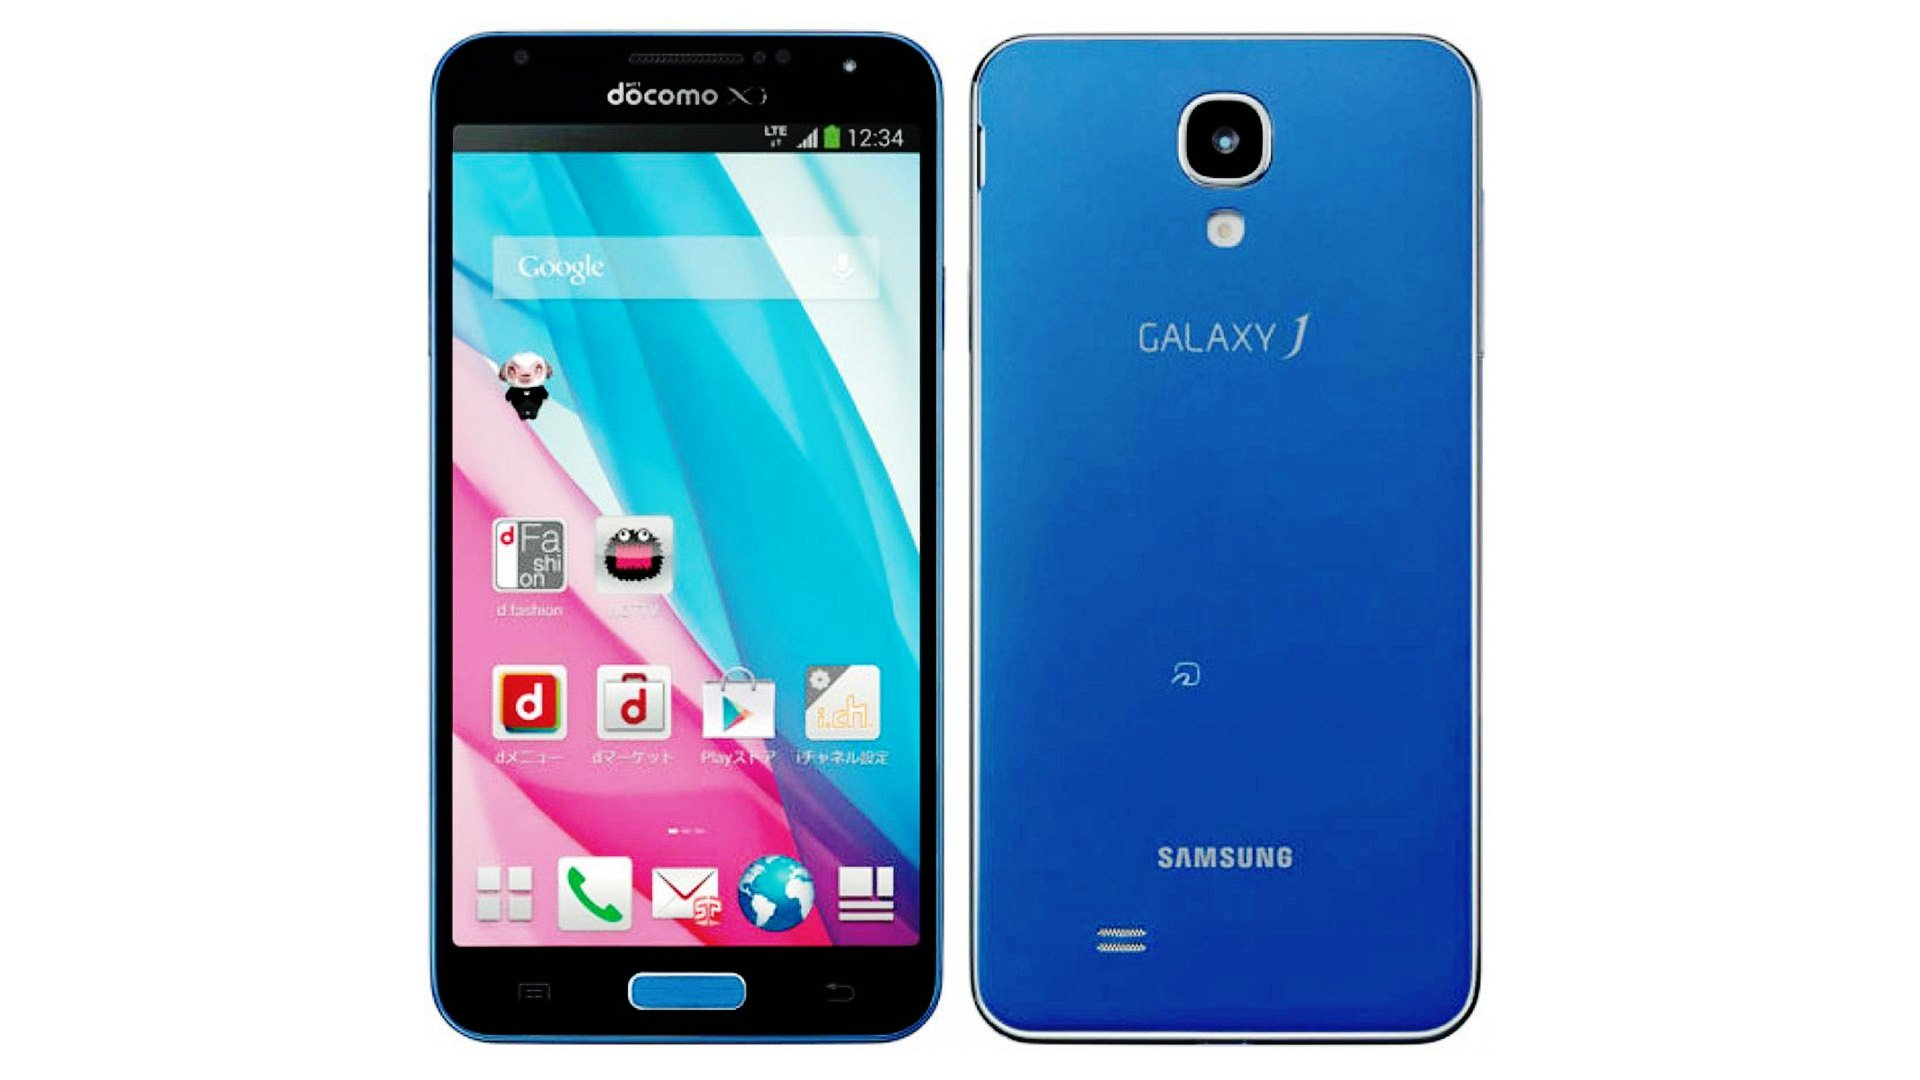smartphone: (425, 28, 947, 1046), (965, 32, 1486, 1044)
